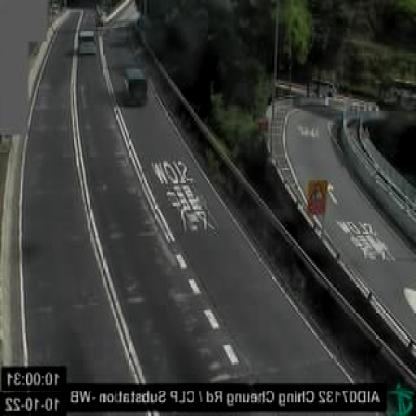Car: (122, 66, 148, 107), (78, 28, 95, 55)
